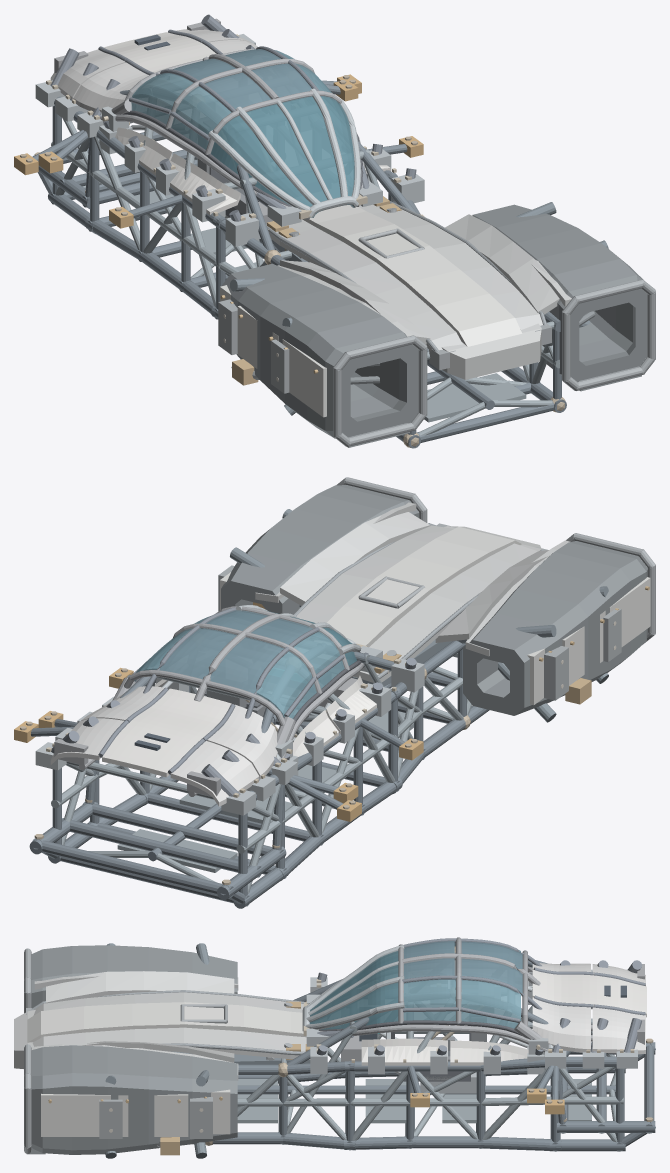
The model's file is FORGE_V18_04_Cockpit_Assembly.glb.
The picture shows the model from 3 angles, top to bottom: view 1: azimuth 30°, elevation 25°; view 2: azimuth 150°, elevation 25°; view 3: azimuth 270°, elevation 25°; orthographic projection. The views are drawn at different scales.
Parts seen in each view (by area): view 1: V18_03_INTAKE_PORT_001_OpenBoreWall, V18_03_INTAKE_STBD_001_OpenBoreWall, V18_03_HOOD_010_CenterSpine, V18_03_HOOD_011_PORT_PressedOuterBonnet, V18_04_GLASS_PORT_ForwardLaminatedWindscreen, V18_03_HOOD_011_STBD_PressedOuterBonnet, V18_04_GLASS_STBD_ForwardLaminatedWindscreen, V18_03_HOOD_016_ForgedNoseBeak, V18_04_COWL_001_CentralArmoredDeck, V18_03_HOOD_017_STBD_ForwardShoulderTiePlate, V18_04_COWL_PORT_002_SplitSidePlate_0, V18_03_INTAKE_PORT_011_SideArmor_0 (+41 smaller); view 2: V18_03_INTAKE_PORT_001_OpenBoreWall, V18_03_INTAKE_STBD_001_OpenBoreWall, V18_03_HOOD_010_CenterSpine, V18_04_COWL_001_CentralArmoredDeck, V18_03_HOOD_011_PORT_PressedOuterBonnet, V18_03_HOOD_011_STBD_PressedOuterBonnet, V18_04_COWL_PORT_002_SplitSidePlate_0, V18_04_COWL_PORT_002_SplitSidePlate_1, V18_03_HOOD_017_STBD_AftShoulderTiePlate, ENGINE_CROSSBAR_2, V18_04_GLASS_PORT_RoofQuarter_01, V18_04_GLASS_PORT_DoorSideLight_01 (+34 smaller); view 3: V18_03_INTAKE_STBD_001_OpenBoreWall, V18_03_HOOD_010_CenterSpine, V18_03_INTAKE_PORT_001_OpenBoreWall, V18_03_HOOD_011_STBD_PressedOuterBonnet, V18_04_COWL_001_CentralArmoredDeck, V18_03_INTAKE_STBD_011_SideArmor_0, V18_03_HOOD_011_PORT_PressedOuterBonnet, V18_04_GLASS_STBD_ForwardLaminatedWindscreen, V18_04_COWL_STBD_002_SplitSidePlate_0, V18_04_GLASS_STBD_DoorSideLight_01, V18_03_HOOD_017_PORT_ForwardShoulderTiePlate, V18_04_GLASS_STBD_DoorSideLight_00 (+86 smaller).
Boxes of the visible parts, box(x1,y1,x2,y2) form: V18_03_INTAKE_PORT_001_OpenBoreWall: box(221, 263, 418, 438); V18_03_INTAKE_STBD_001_OpenBoreWall: box(472, 204, 647, 381); V18_03_HOOD_010_CenterSpine: box(302, 205, 522, 346); V18_03_HOOD_011_PORT_PressedOuterBonnet: box(266, 219, 462, 351); V18_04_GLASS_PORT_ForwardLaminatedWindscreen: box(210, 104, 327, 217); V18_03_HOOD_011_STBD_PressedOuterBonnet: box(359, 204, 542, 329); V18_04_GLASS_STBD_ForwardLaminatedWindscreen: box(282, 96, 354, 207); V18_03_HOOD_016_ForgedNoseBeak: box(429, 323, 541, 379); V18_04_COWL_001_CentralArmoredDeck: box(103, 32, 216, 72); V18_03_HOOD_017_STBD_ForwardShoulderTiePlate: box(489, 241, 559, 314); V18_04_COWL_PORT_002_SplitSidePlate_0: box(73, 62, 148, 112); V18_03_INTAKE_PORT_011_SideArmor_0: box(282, 339, 326, 417); V18_03_INTAKE_PORT_001_OpenBoreWall: box(463, 541, 647, 715); V18_03_INTAKE_STBD_001_OpenBoreWall: box(221, 485, 419, 614); V18_03_HOOD_010_CenterSpine: box(327, 527, 521, 647); V18_04_COWL_001_CentralArmoredDeck: box(102, 688, 231, 777); V18_03_HOOD_011_PORT_PressedOuterBonnet: box(353, 543, 537, 682); V18_03_HOOD_011_STBD_PressedOuterBonnet: box(296, 525, 453, 622); V18_04_COWL_PORT_002_SplitSidePlate_0: box(207, 704, 277, 779); V18_04_COWL_PORT_002_SplitSidePlate_1: box(170, 741, 259, 806); V18_03_HOOD_017_STBD_AftShoulderTiePlate: box(280, 538, 364, 605); ENGINE_CROSSBAR_2: box(32, 838, 233, 897); V18_04_GLASS_PORT_RoofQuarter_01: box(210, 637, 283, 693); V18_04_GLASS_PORT_DoorSideLight_01: box(255, 651, 316, 718); V18_03_INTAKE_STBD_001_OpenBoreWall: box(31, 1045, 237, 1154); V18_03_HOOD_010_CenterSpine: box(27, 1002, 306, 1042); V18_03_INTAKE_PORT_001_OpenBoreWall: box(31, 945, 237, 1007); V18_03_HOOD_011_STBD_PressedOuterBonnet: box(32, 1027, 310, 1059); V18_04_COWL_001_CentralArmoredDeck: box(532, 970, 646, 1017); V18_03_INTAKE_STBD_011_SideArmor_0: box(41, 1093, 110, 1136); V18_03_HOOD_011_PORT_PressedOuterBonnet: box(33, 992, 303, 1015); V18_04_GLASS_STBD_ForwardLaminatedWindscreen: box(309, 965, 398, 1029); V18_04_COWL_STBD_002_SplitSidePlate_0: box(532, 997, 590, 1052); V18_04_GLASS_STBD_DoorSideLight_01: box(461, 979, 520, 1028); V18_03_HOOD_017_PORT_ForwardShoulderTiePlate: box(46, 971, 143, 1003); V18_04_GLASS_STBD_DoorSideLight_00: box(403, 979, 455, 1020).
Size of the model in its own units: 4.2 by 2.16 by 7.81.
